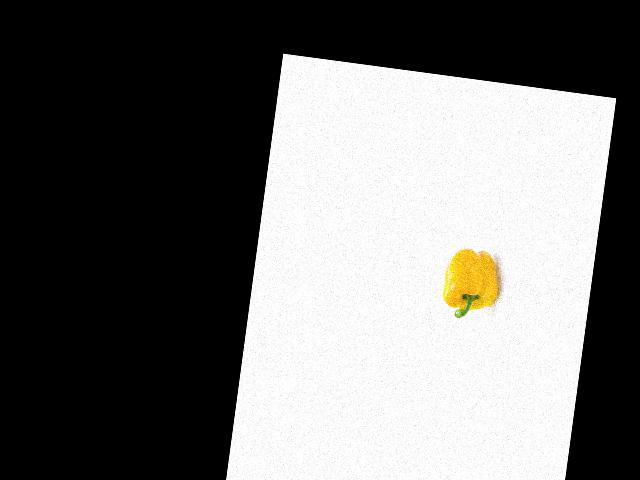bell_pepper: (435, 243, 503, 328)
